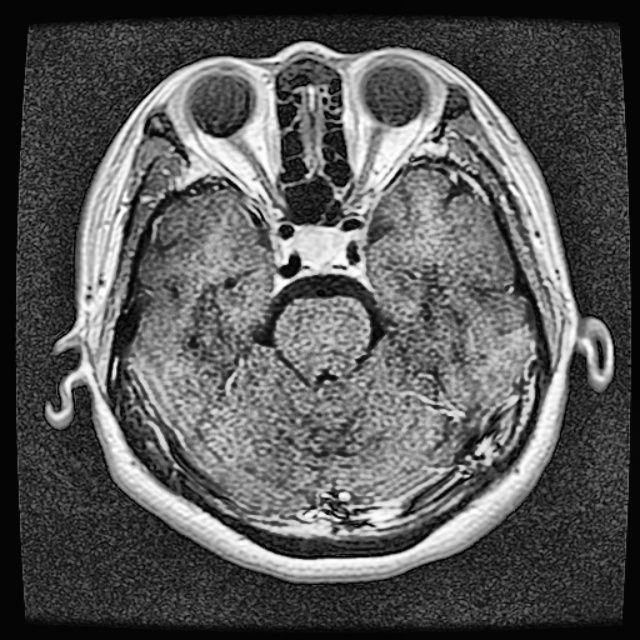Pituitary: (289, 224, 347, 264)
